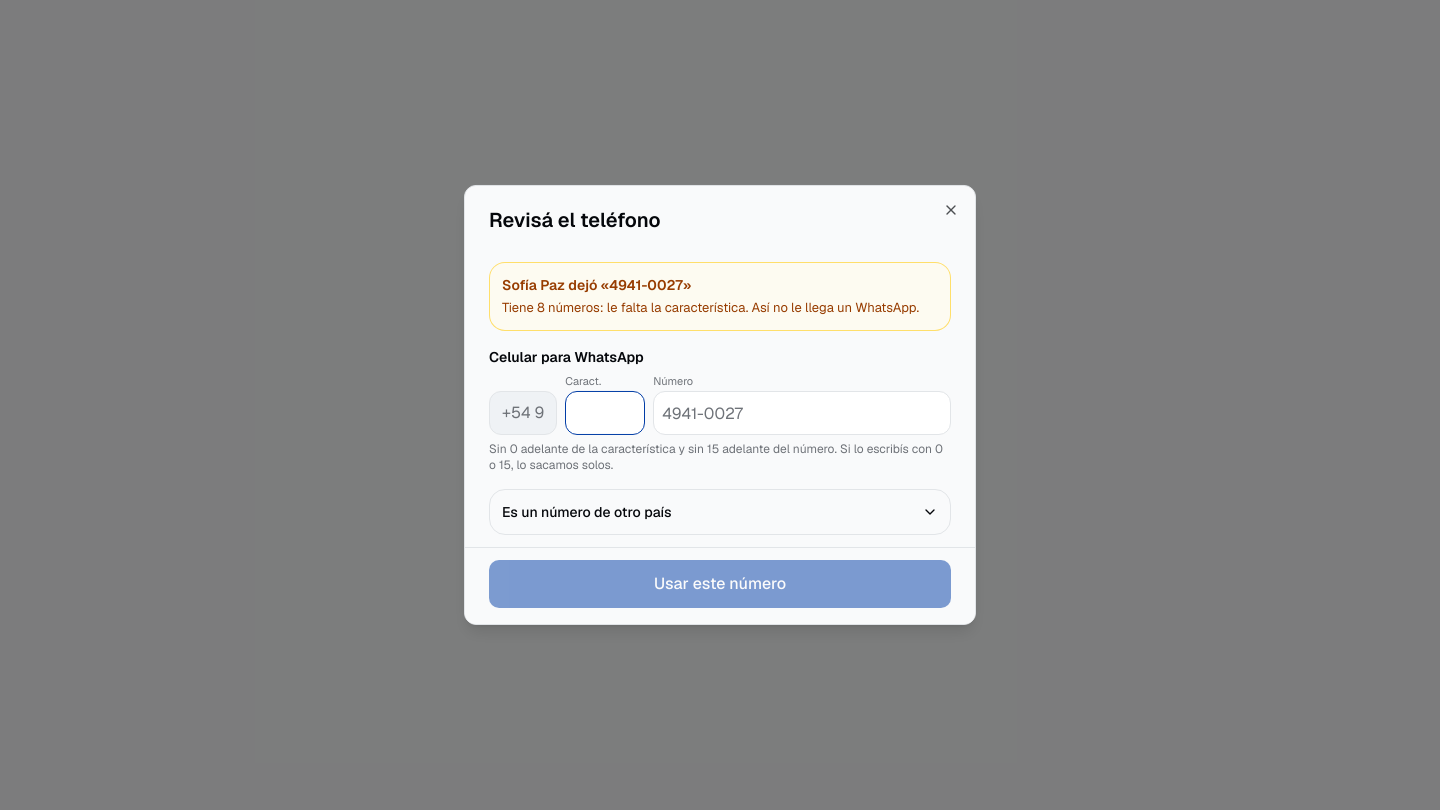
Test: AgendarDesdeConsulta › teléfono "4941-0027": "Usar este número" se habilita con la característica y la visita lleva el canónico
The width and height of the screenshot is (1440, 810).
Expected: the heading "Revisá el teléfono" is shown, [489, 207, 660, 233]
Expected: the text "Tiene 8 números: le falta la característica." is shown, [502, 299, 748, 316]
Step 1. Type "11" into the field named "Característica" → (605, 413), box [565, 391, 645, 435]
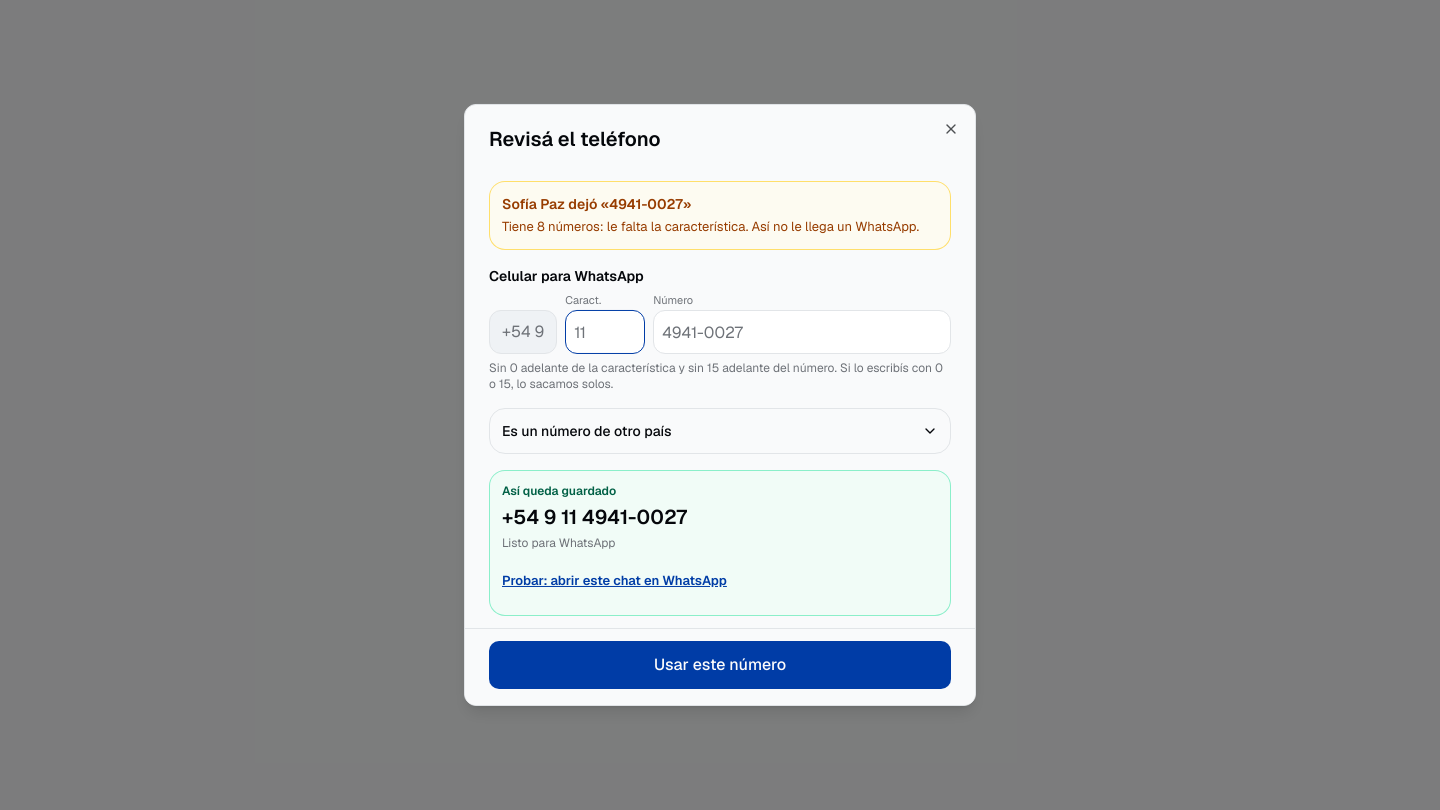
Result: the button "Usar este número" is enabled
Result: the text "+54 9 11 4941-0027" is shown at [502, 504, 687, 530]
Step 2. Click the button "Usar este número" → (720, 665), box [489, 641, 951, 689]
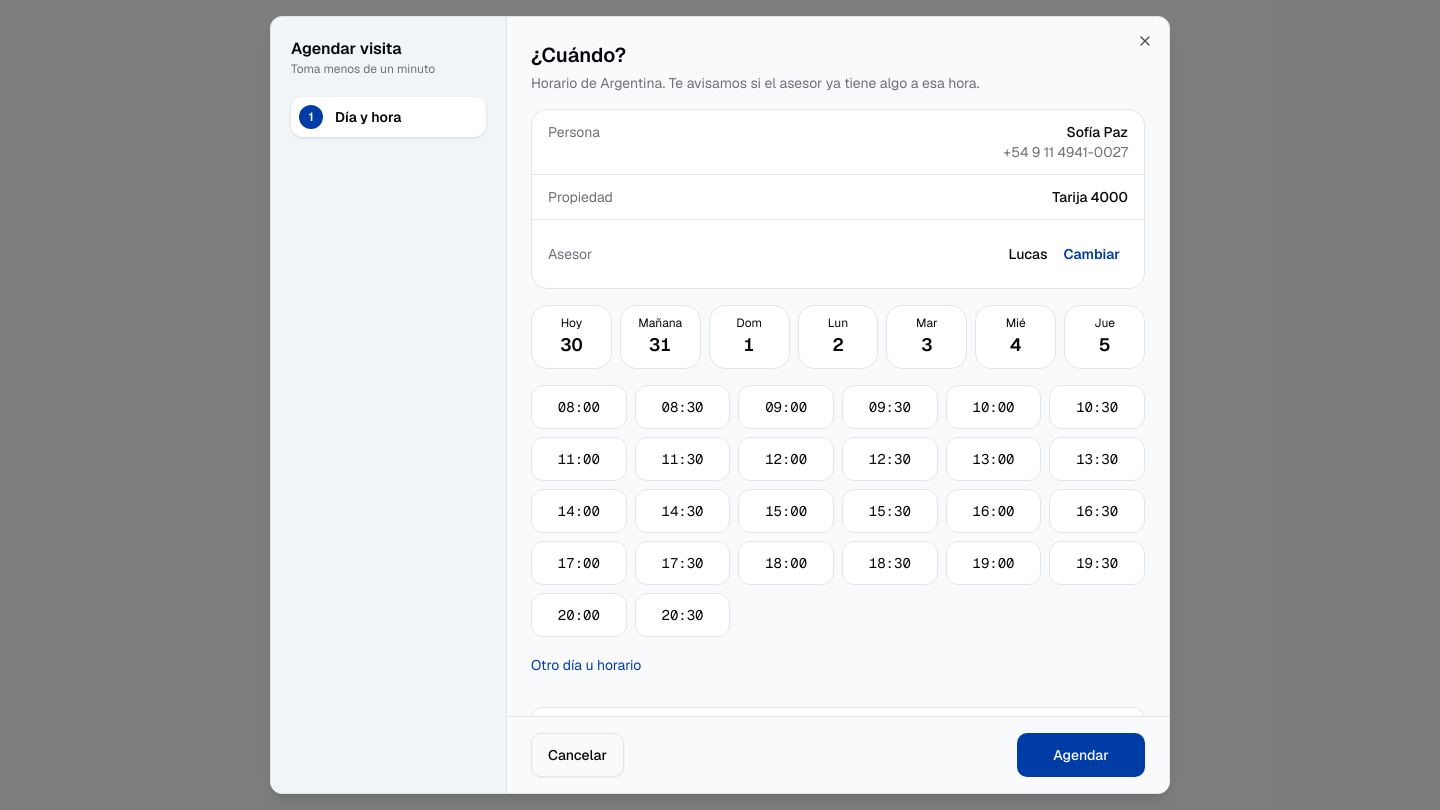
Result: the heading "¿Cuándo?" is shown at [531, 42, 626, 68]
Step 3. Click the button "Hoy 30" → (571, 337), box [531, 305, 612, 369]
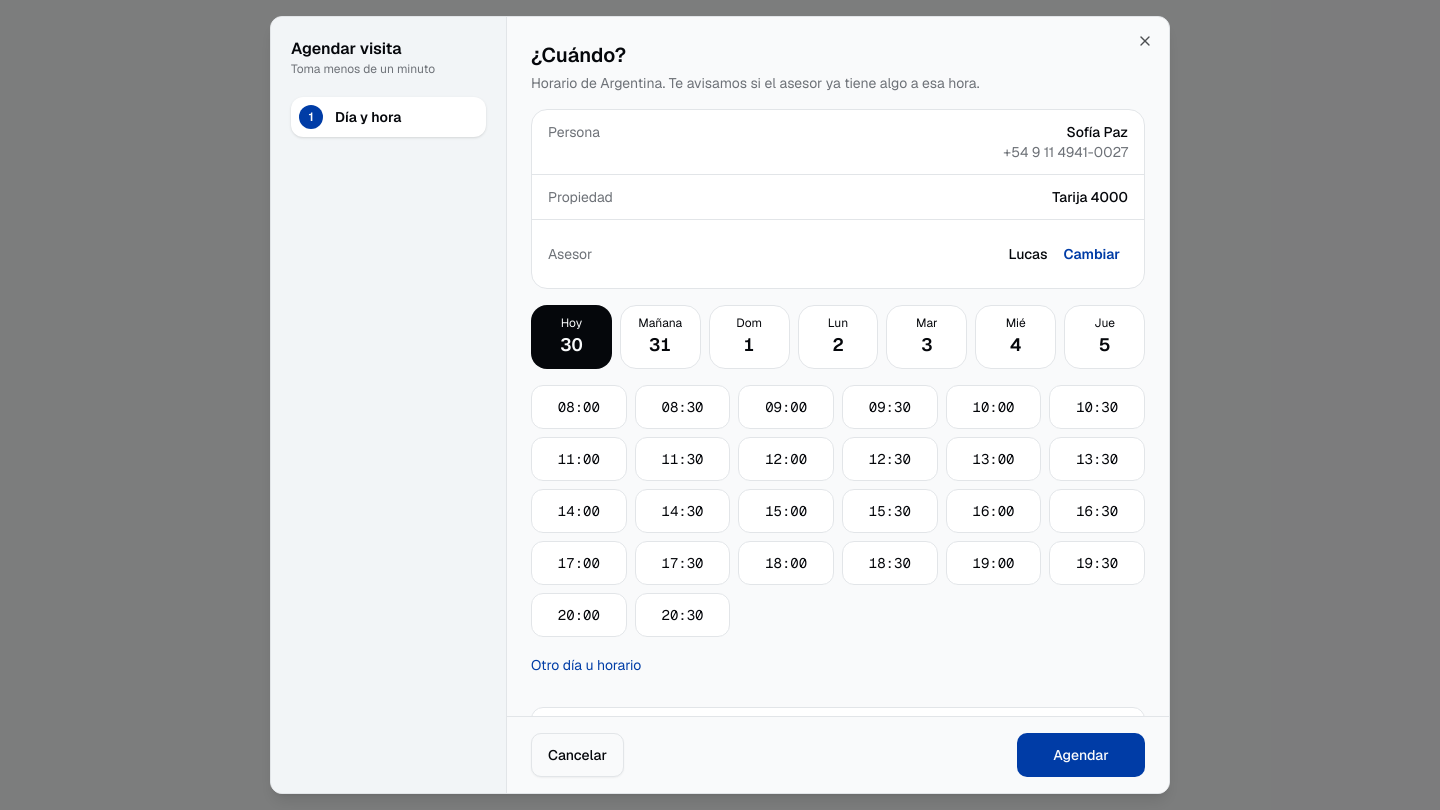
Step 4. Click the button "10:00" → (994, 407), box [946, 385, 1041, 429]
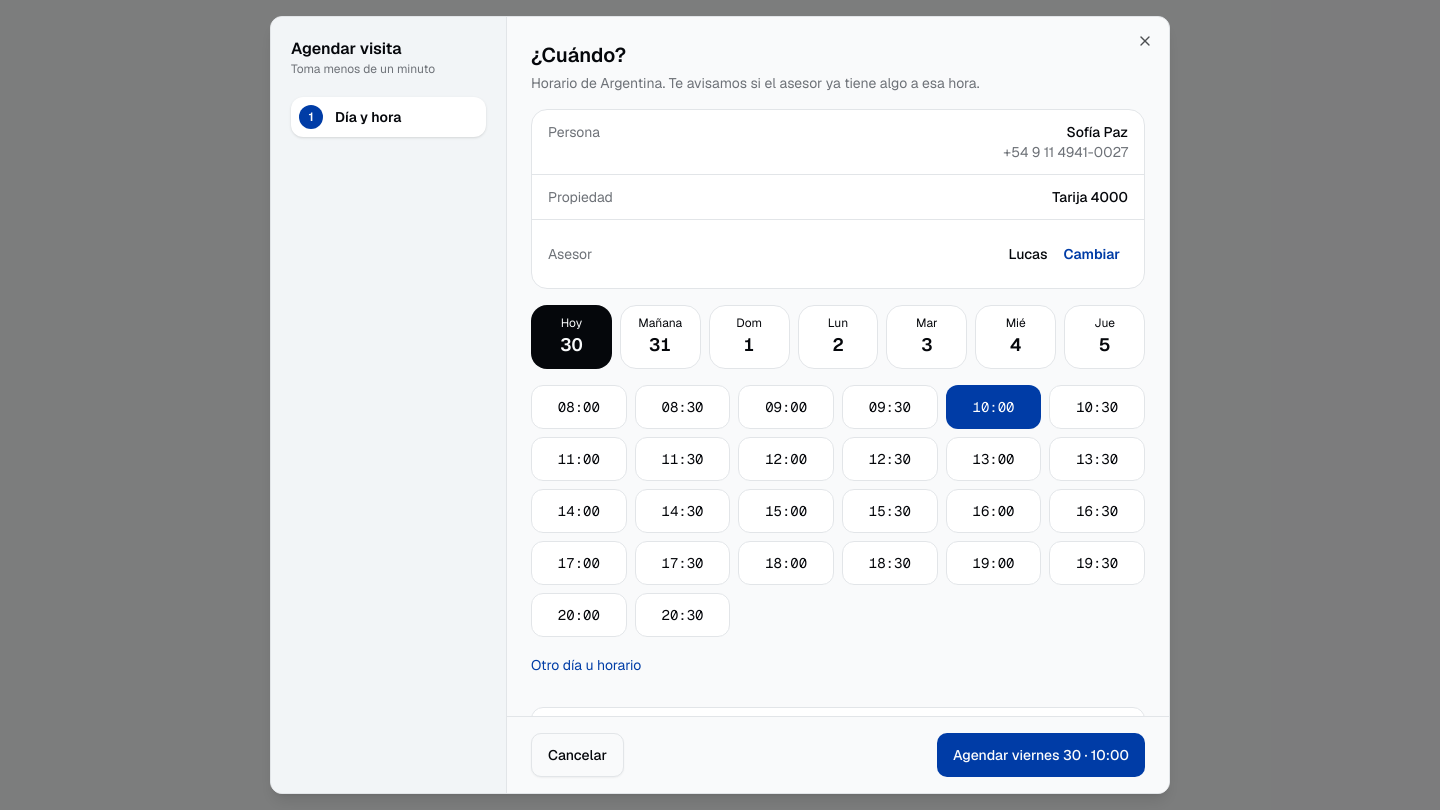
Step 5. Click the button "Agendar viernes 30 · 10:00" → (1041, 755), box [937, 733, 1145, 777]
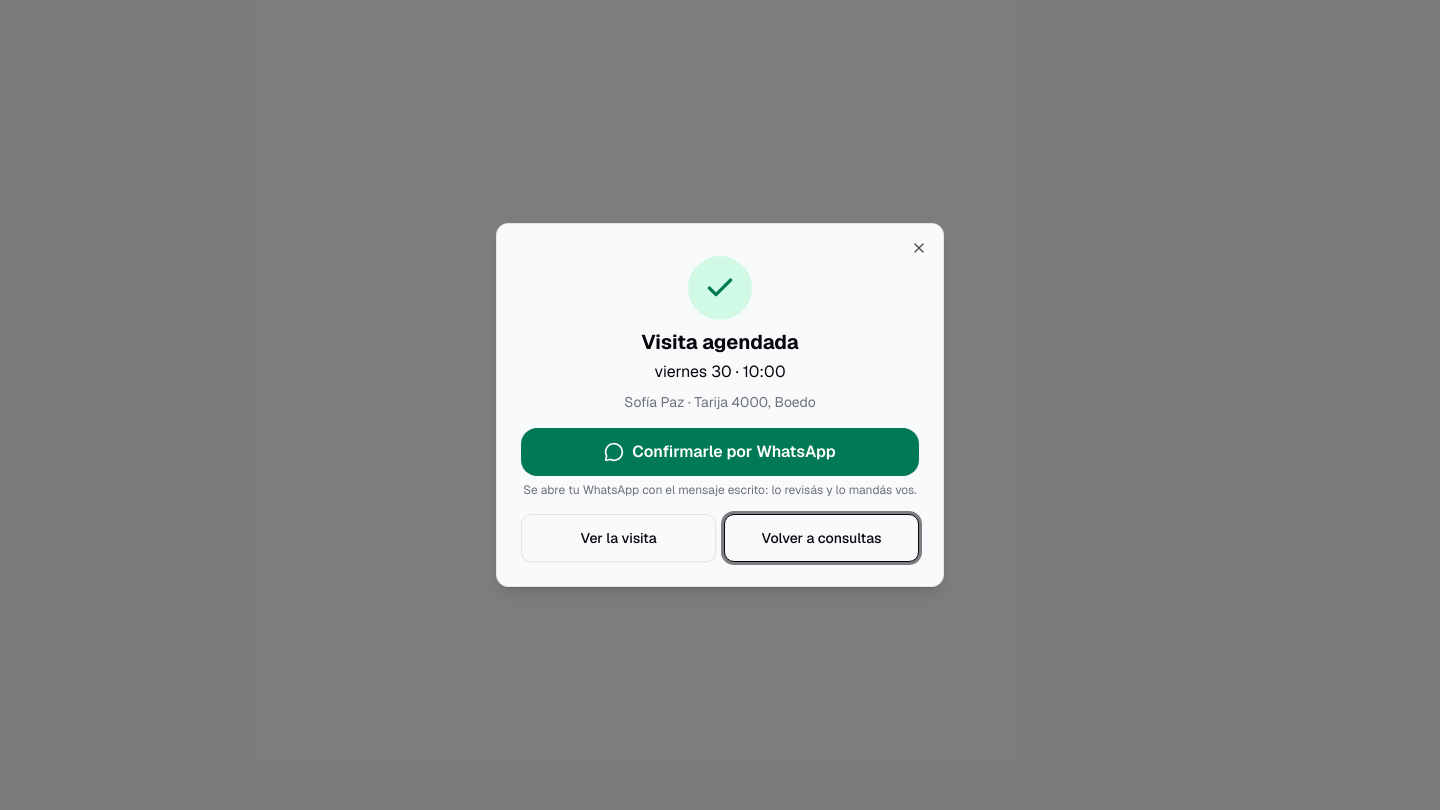
Result: the heading "Visita agendada viernes 30 · 10:00" is shown at [641, 328, 799, 384]
